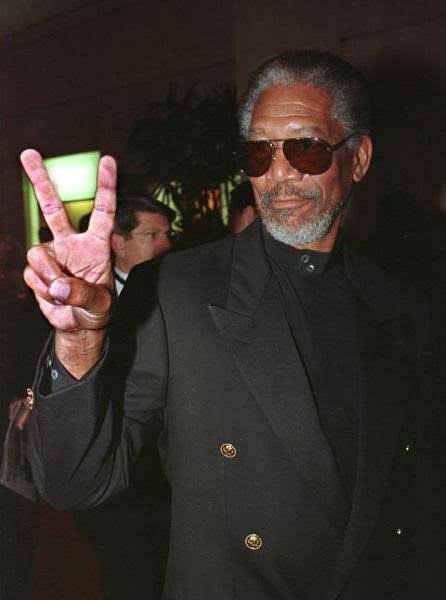peace_sign: (20, 129, 128, 337)
